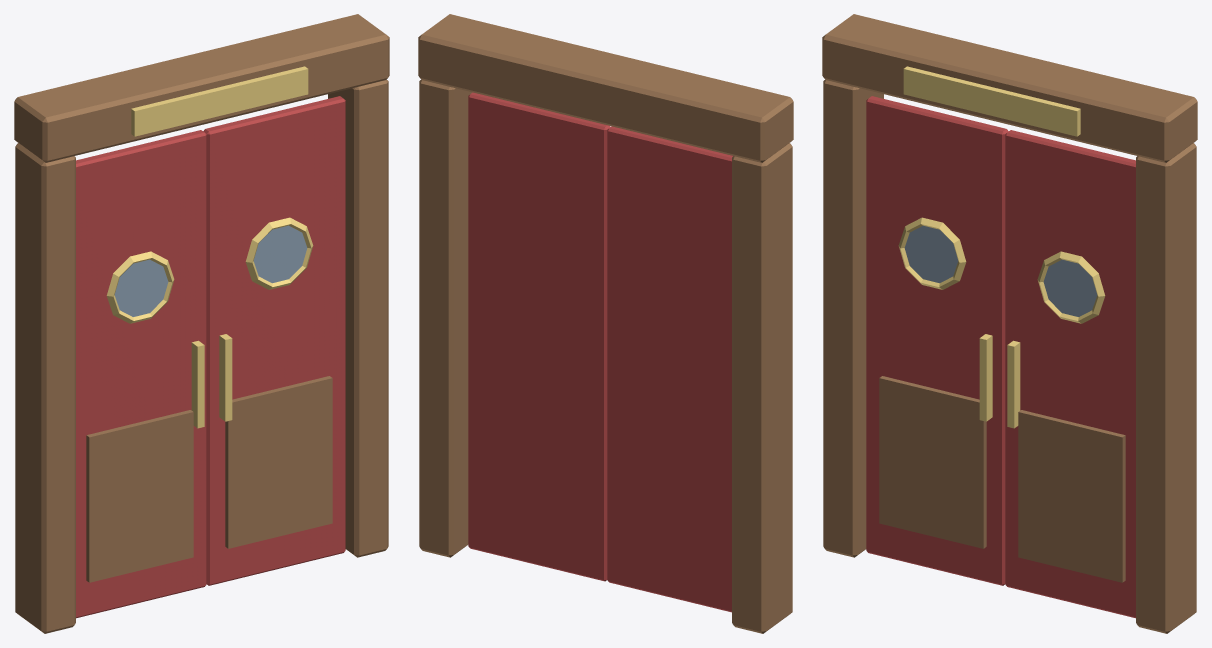
Rendered from prop_door_double_01.glb.
3 renders of one model, left to right at view 1: azimuth 30°, elevation 25°; view 2: azimuth 150°, elevation 25°; view 3: azimuth 330°, elevation 25°, orthographic.
Visible parts, largest first — view 1: prop_door_double_01_body, prop_door_double_01_leaf_r, prop_door_double_01_leaf_l; view 2: prop_door_double_01_body, prop_door_double_01_leaf_r, prop_door_double_01_leaf_l; view 3: prop_door_double_01_body, prop_door_double_01_leaf_l, prop_door_double_01_leaf_r.
Boxes of the visible parts, <box> form: prop_door_double_01_body: <box>14,14,389,633</box>; prop_door_double_01_leaf_r: <box>203,96,345,585</box>; prop_door_double_01_leaf_l: <box>76,130,206,618</box>; prop_door_double_01_body: <box>418,14,793,633</box>; prop_door_double_01_leaf_r: <box>468,92,610,581</box>; prop_door_double_01_leaf_l: <box>607,126,732,612</box>; prop_door_double_01_body: <box>822,14,1197,633</box>; prop_door_double_01_leaf_l: <box>866,96,1008,585</box>; prop_door_double_01_leaf_r: <box>1005,130,1135,618</box>.
Size of the model in its own units: 2 by 2.85 by 0.355.
